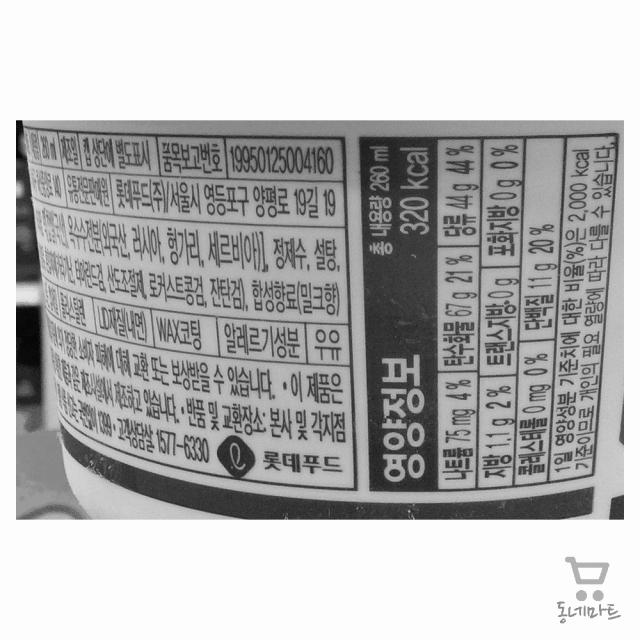Nutrition Label: (364, 126, 622, 497)
